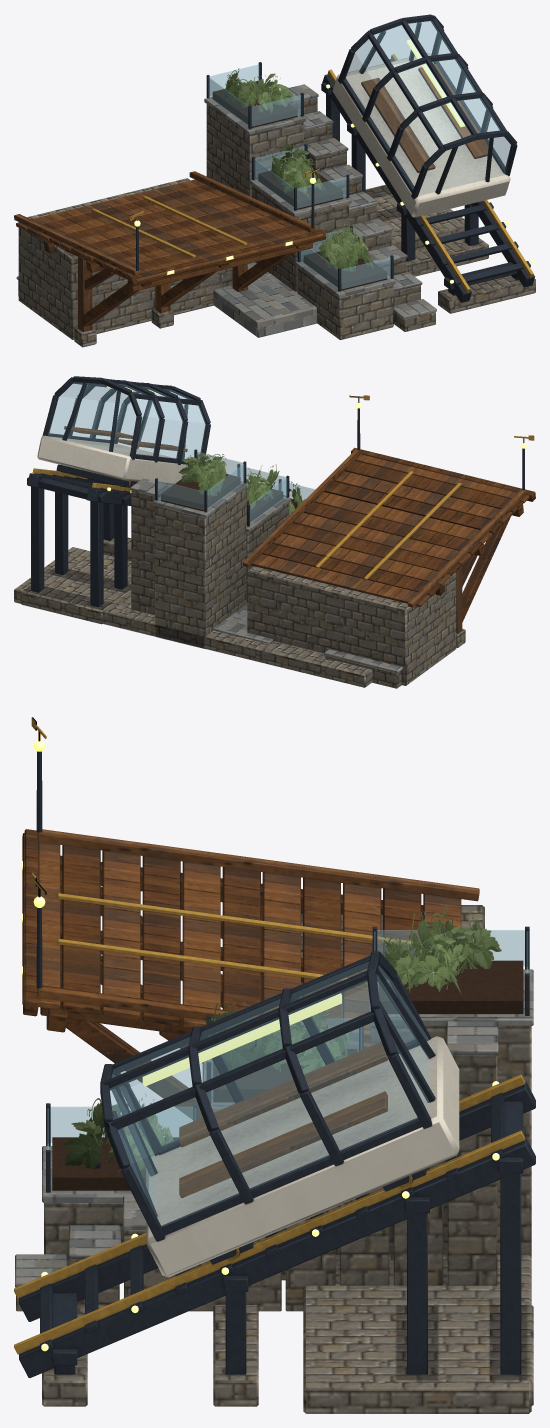
File: landmark_glider_ramp_0g.glb
3 views of the same model, one above another, from view 1: azimuth 30°, elevation 25°; view 2: azimuth 150°, elevation 25°; view 3: azimuth 270°, elevation 25° (orthographic). The views are drawn at different scales.
Visible parts, largest first — view 1: GliderRamp0GBody, GliderRamp0GGlass, GliderTerraceFoliage, GliderRamp0GGlow; view 2: GliderRamp0GBody, GliderRamp0GGlass, GliderTerraceFoliage; view 3: GliderRamp0GBody, GliderRamp0GGlass, GliderTerraceFoliage, GliderRamp0GGlow.
Part boxes in pixels (left/top/right/bottom): GliderRamp0GBody: left=14, top=14, right=535, bottom=347; GliderRamp0GGlass: left=208, top=21, right=510, bottom=288; GliderTerraceFoliage: left=223, top=68, right=373, bottom=272; GliderRamp0GGlow: left=134, top=39, right=534, bottom=283; GliderRamp0GBody: left=14, top=376, right=535, bottom=688; GliderRamp0GGlass: left=48, top=382, right=315, bottom=523; GliderTerraceFoliage: left=178, top=453, right=305, bottom=515; GliderRamp0GBody: left=14, top=717, right=535, bottom=1413; GliderRamp0GGlass: left=47, top=930, right=528, bottom=1226; GliderTerraceFoliage: left=62, top=905, right=501, bottom=1171; GliderRamp0GGlow: left=21, top=740, right=499, bottom=1351.
Size of the model in its own units: 8.47 by 4.24 by 5.03.
7 materials, 5 textured.
